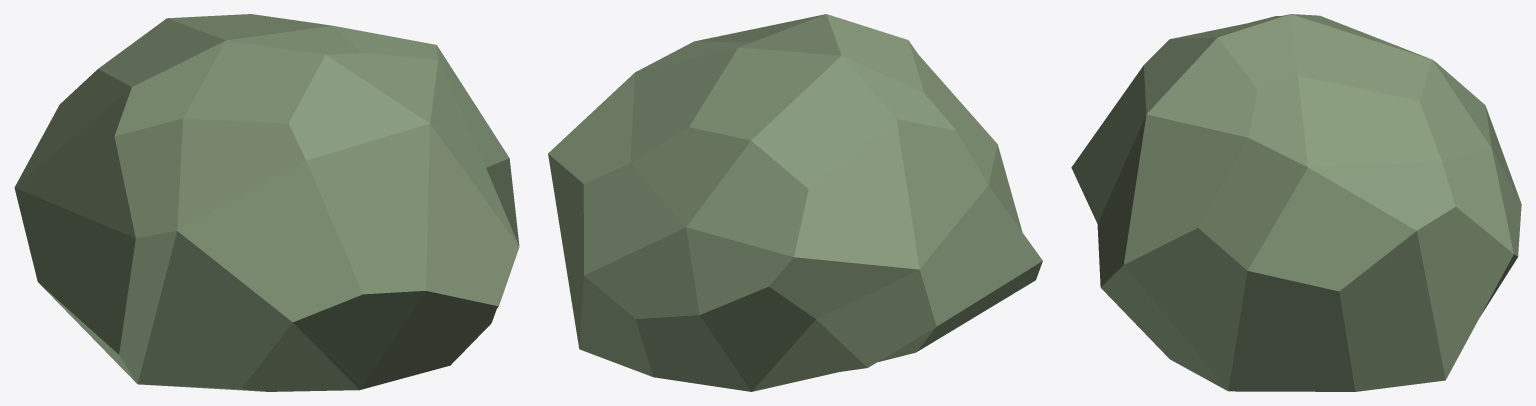
The model's file is Bush4.fbx.
The picture shows the model from 3 angles, left to right: view 1: azimuth 30°, elevation 25°; view 2: azimuth 150°, elevation 25°; view 3: azimuth 270°, elevation 25°; orthographic projection. The views are drawn at different scales.
Parts seen in each view (by area): view 1: Small_bush1; view 2: Small_bush1; view 3: Small_bush1.
Boxes of the visible parts, bbox=[...] form: Small_bush1: bbox=[14, 14, 519, 391]; Small_bush1: bbox=[548, 14, 1042, 391]; Small_bush1: bbox=[1071, 14, 1521, 391].
Bounding box in the file's own units: 7.3 × 4.86 × 7.1.
